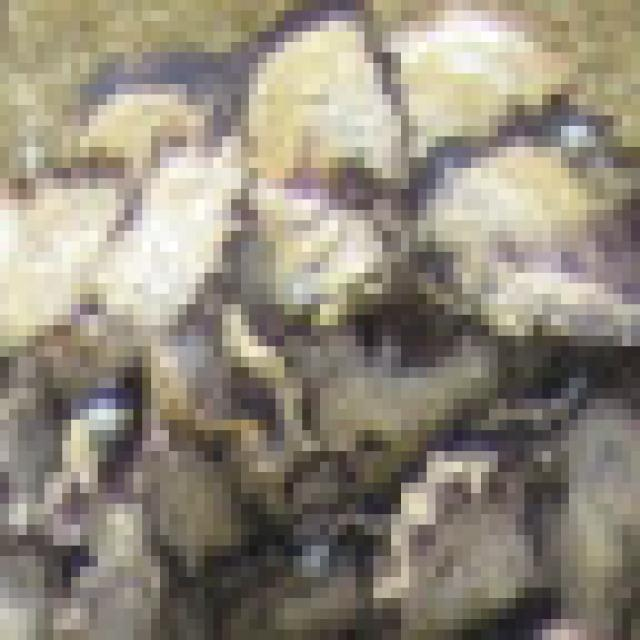Oyster-Closed: (242, 185, 411, 334), (215, 541, 367, 640)
Oyster-Indeterminate: (411, 143, 598, 306), (249, 17, 411, 189), (326, 346, 507, 481), (388, 15, 562, 153), (0, 176, 128, 360), (109, 143, 239, 319), (560, 399, 640, 640), (478, 269, 640, 342)
Oyster-Open: (377, 443, 542, 640)
